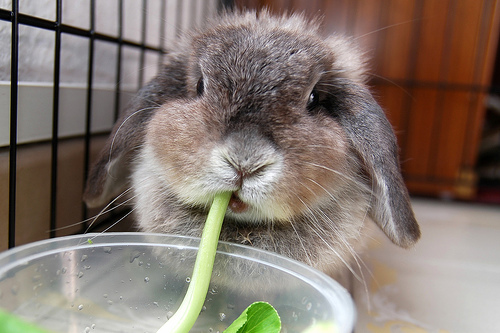bunny: (75, 3, 431, 315)
